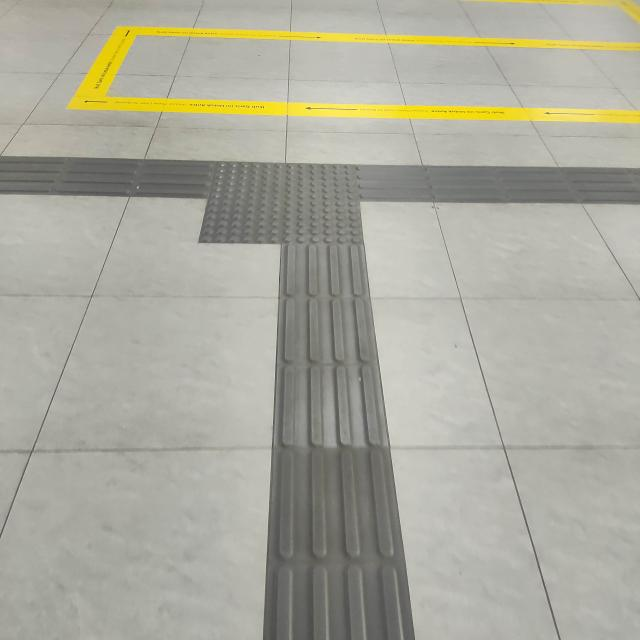lurus: (274, 243, 395, 640)
